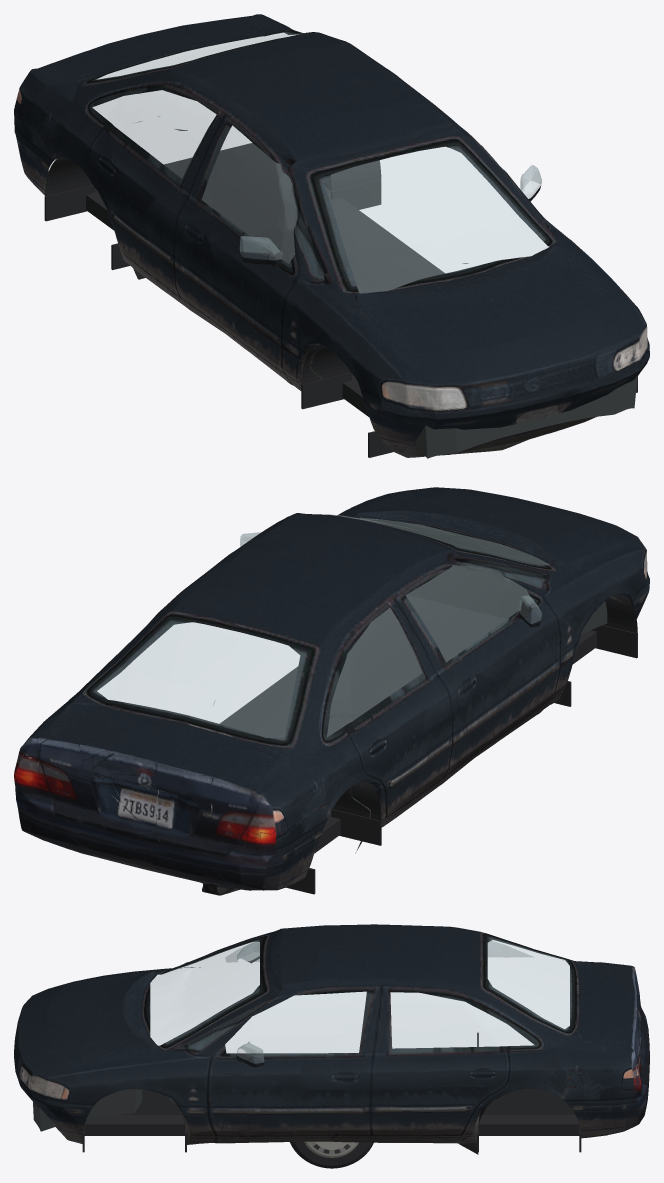
The model's file is graphite-city-saloon.glb.
The picture shows the model from 3 angles, top to bottom: view 1: azimuth 30°, elevation 25°; view 2: azimuth 150°, elevation 25°; view 3: azimuth 270°, elevation 25°; orthographic projection. The views are drawn at different scales.
Visible parts, largest first — view 1: GraphiteBody, Bonnet, WheelWells, Windshield, DoorFrontL, DoorRearL, GlassFrontL, GlassRearL, EngineCompartment, RearGlass, DoorFrontR; view 2: GraphiteBody, WheelWells, DoorFrontL, RearGlass, DoorRearL, Bonnet, GlassFrontL, EngineCompartment, GlassRearL, Windshield; view 3: GraphiteBody, DoorFrontR, DoorRearR, Bonnet, WheelWells, GlassFrontR, Windshield, GlassRearR, RearGlass, WheelPrototype, EngineCompartment, GlassFrontL (+1 smaller).
Part boxes in pixels (x1,y1,x2,y2): GraphiteBody: (14,14,649,457); Bonnet: (357,252,641,384); WheelWells: (44,143,637,457); Windshield: (325,147,548,293); DoorFrontL: (176,116,327,375); DoorRearL: (81,78,230,290); GlassFrontL: (202,125,296,263); GlassRearL: (92,90,216,178); EngineCompartment: (415,376,637,458); RearGlass: (98,33,297,78); DoorFrontR: (397,76,558,230); GraphiteBody: (14,487,649,895); WheelWells: (220,594,637,894); DoorFrontL: (397,554,571,767); RearGlass: (97,622,299,737); DoorRearL: (329,594,451,810); Bonnet: (358,487,640,563); GlassFrontL: (406,565,541,662); EngineCompartment: (359,517,607,634); GlassRearL: (327,608,421,736); Windshield: (331,514,549,565); GraphiteBody: (14,924,649,1154); DoorFrontR: (188,985,372,1131); DoorRearR: (376,986,531,1131); Bonnet: (31,973,144,1074); WheelWells: (82,1032,581,1152); GlassFrontR: (225,992,366,1063); Windshield: (150,942,259,1045); GlassRearR: (390,992,533,1048); RearGlass: (488,940,569,1028); WheelPrototype: (290,1141,373,1168); EngineCompartment: (33,1089,142,1131); GlassFrontL: (226,941,259,961).
Size of the model in its own units: 1.96 by 1.76 by 4.7.
Materials: 7 (3 with a texture image).
